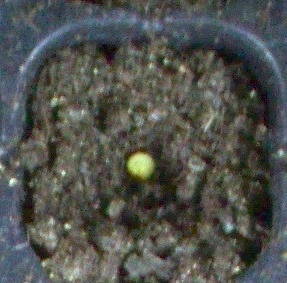chilli seed: (125, 151, 155, 180)
